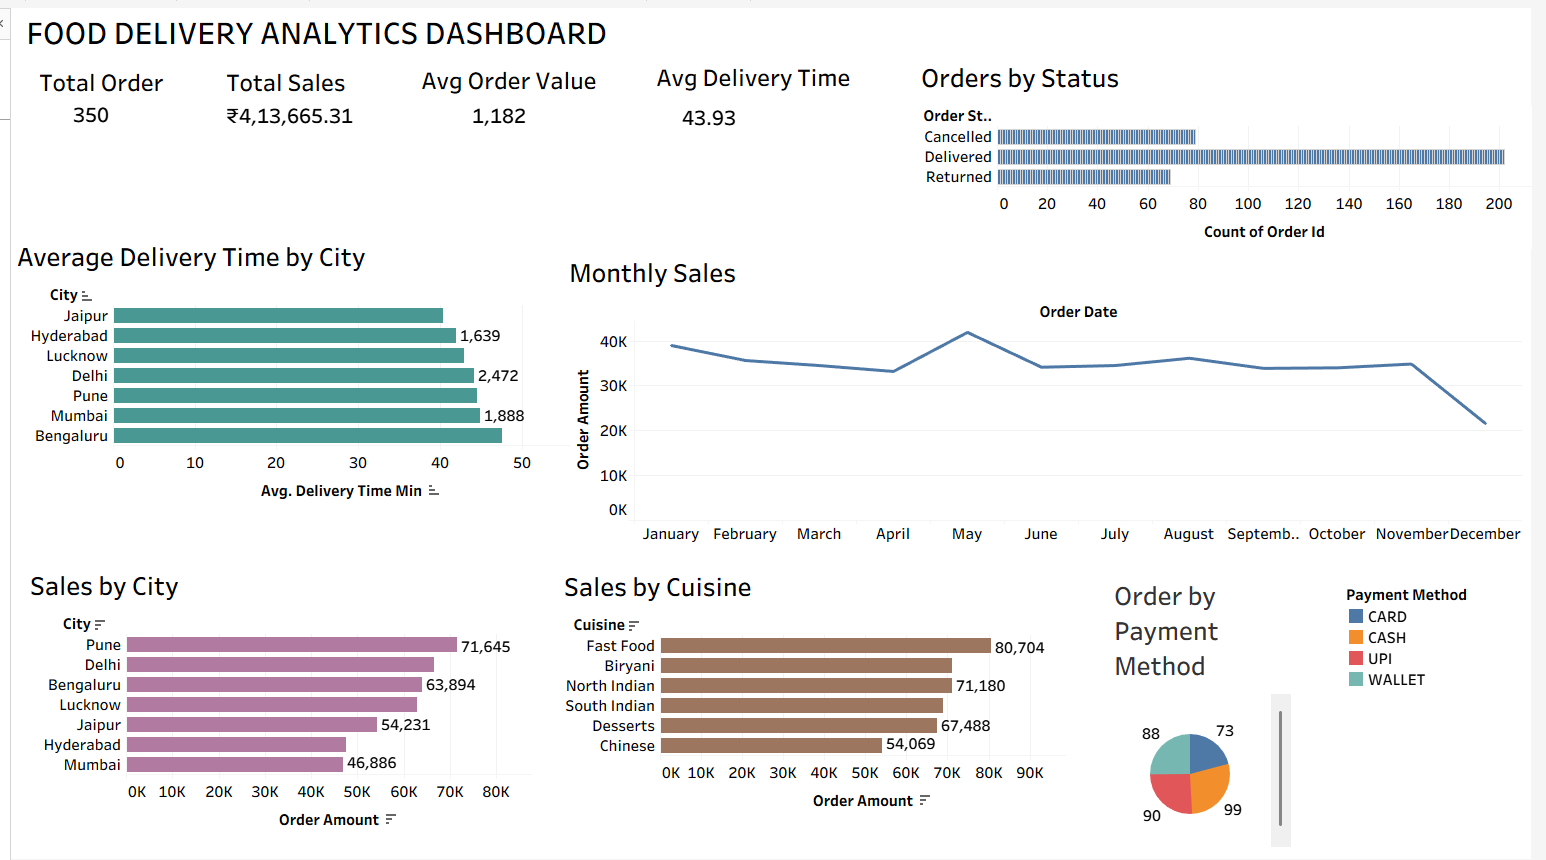

This screenshot's page, from the dashboard's own definition file:
{"tool":"tableau","page":{"name":"Dashboard 1","canvas":[1520,860],"ordinal":0},"visuals":[{"type":"title","box":[8,8,1504,49]},{"type":"worksheet","title":"Sheet 8","mark":"Automatic","rows":["order_status"],"cols":["order_id"],"box":[906,57,615,205]},{"type":"text","box":[642,62,201,32]},{"type":"text","box":[407,65,182,32]},{"type":"text","box":[25,67,131,32]},{"type":"text","box":[212,67,126,32]},{"type":"worksheet","title":"Sheet 1","mark":"Automatic","box":[42,102,105,55]},{"type":"worksheet","title":"Sheet 2","mark":"Automatic","box":[206,103,153,50]},{"type":"worksheet","title":"Sheet 3","mark":"Automatic","box":[439,103,130,69]},{"type":"worksheet","title":"Sheet 4","mark":"Automatic","box":[649,105,192,80]},{"type":"worksheet","title":"Sheet 10","mark":"Automatic","rows":["city"],"cols":["delivery_time_min"],"box":[2,236,557,311]},{"type":"worksheet","title":"Sheet 9","mark":"Automatic","rows":["order_amount"],"cols":["order_date"],"box":[554,252,957,294]},{"type":"worksheet","title":"Sheet 5","mark":"Automatic","rows":["city"],"cols":["order_amount"],"box":[15,565,506,284]},{"type":"worksheet","title":"Sheet 6","mark":"Automatic","rows":["cuisine"],"cols":["order_amount"],"box":[549,566,506,284]},{"type":"worksheet","title":"Sheet 7","mark":"Pie","box":[1099,575,420,273]},{"type":"legend","title":"Sheet 7","param":"[federated.1yuc0ie0hckvuv1bv8suc0j9cxq9].[none:payment_method:nk]","box":[1335,585,140,150]}]}

Visuals, with their boxes in screenshot pixels (x1, y1, x2, y2), scaled from the page's 1520x860 canvas onto the 1546x860 screenshot:
title: box(8, 8, 1538, 57)
"Sheet 8" worksheet: box(921, 57, 1545, 262)
text: box(653, 62, 857, 94)
text: box(414, 65, 599, 97)
text: box(25, 67, 159, 99)
text: box(216, 67, 344, 99)
"Sheet 1" worksheet: box(43, 102, 150, 157)
"Sheet 2" worksheet: box(210, 103, 365, 153)
"Sheet 3" worksheet: box(447, 103, 579, 172)
"Sheet 4" worksheet: box(660, 105, 855, 185)
"Sheet 10" worksheet: box(2, 236, 569, 547)
"Sheet 9" worksheet: box(563, 252, 1537, 546)
"Sheet 5" worksheet: box(15, 565, 530, 849)
"Sheet 6" worksheet: box(558, 566, 1073, 850)
"Sheet 7" worksheet (Pie marks): box(1118, 575, 1545, 848)
"Sheet 7" legend: box(1358, 585, 1500, 735)
